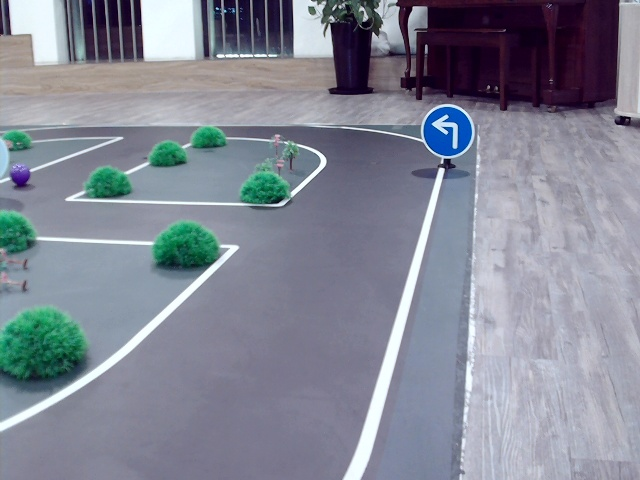turn_left: (433, 112, 462, 147)
